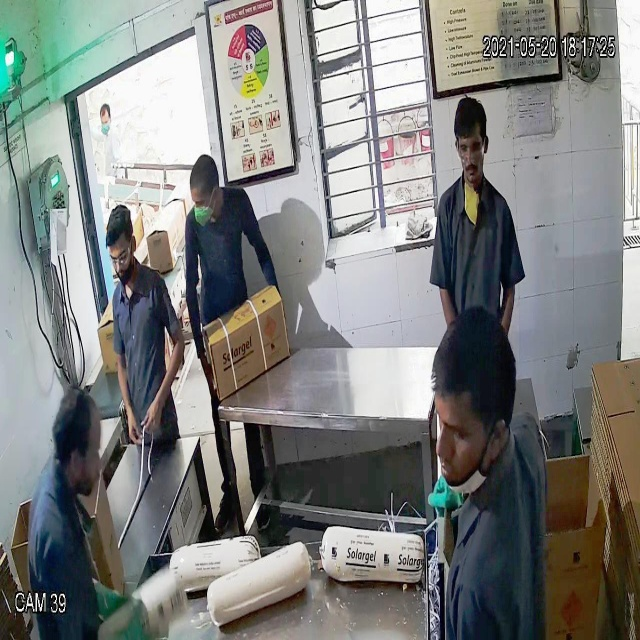Gafas: (456, 137, 489, 164), (104, 245, 135, 268)
Sin_gafas: (425, 399, 502, 449), (188, 188, 220, 212)
